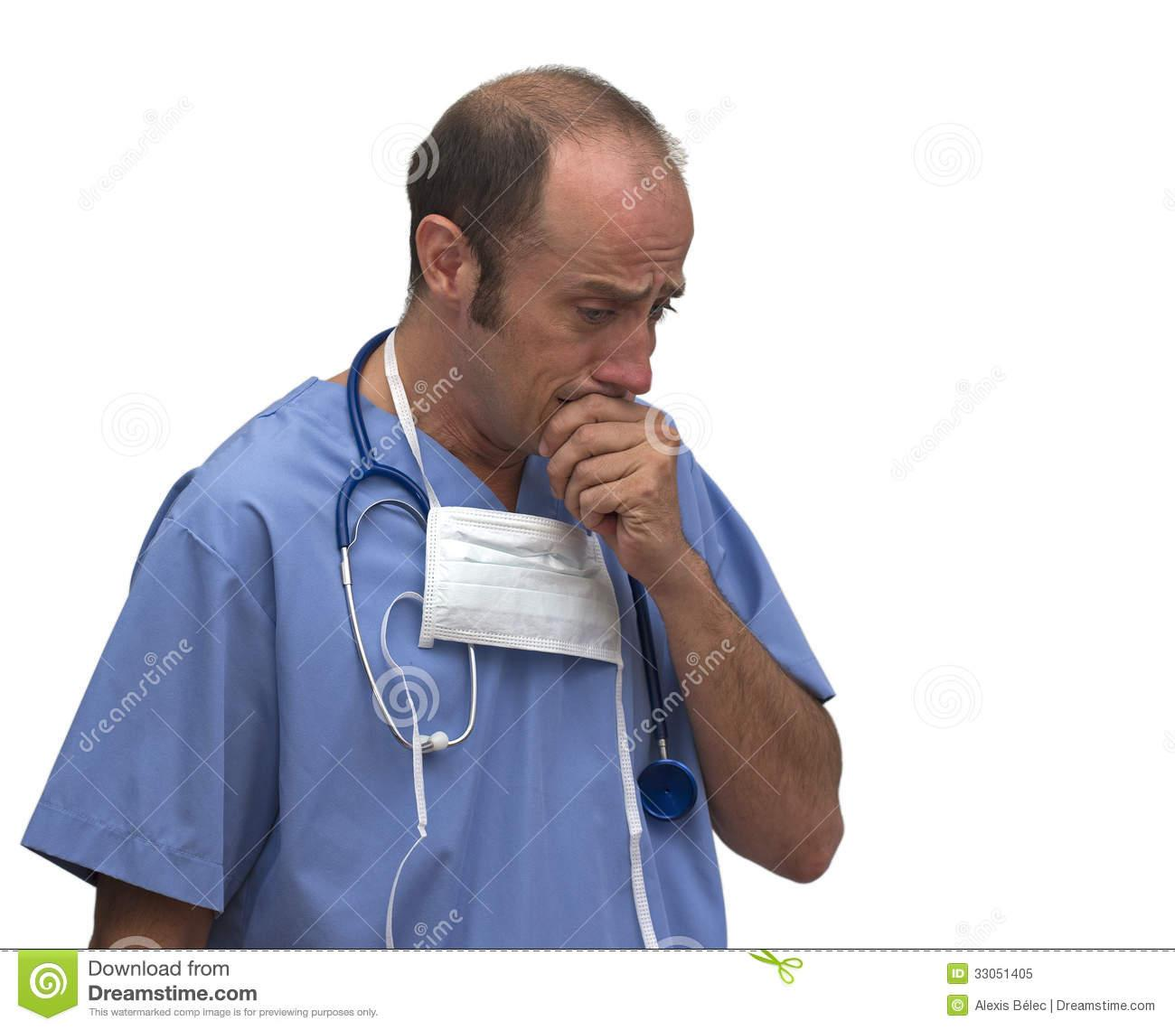Wore Mask Incorrectly: (349, 43, 775, 698)
